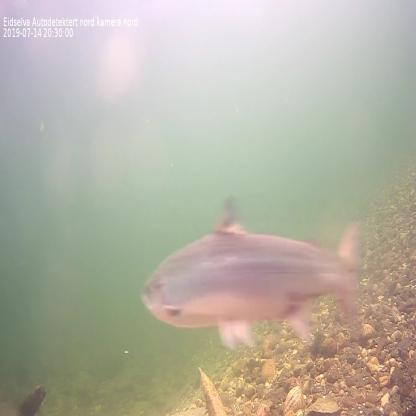salmon: (136, 189, 373, 361)
